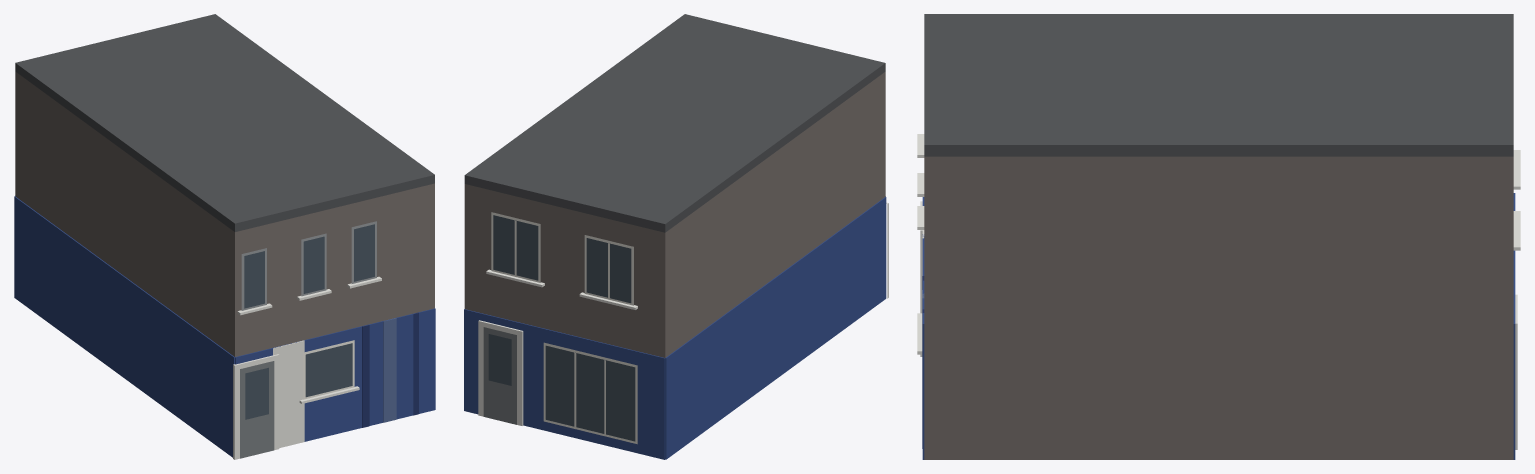
File: th-kz-row__blue__2__flat__long__solid.glb
The picture shows the model from 3 angles, left to right: view 1: azimuth 30°, elevation 25°; view 2: azimuth 150°, elevation 25°; view 3: azimuth 270°, elevation 25°; orthographic projection. The views are drawn at different scales.
Parts seen in each view (by area): view 1: th-kz-row__blue__2__flat__long__solid; view 2: th-kz-row__blue__2__flat__long__solid; view 3: th-kz-row__blue__2__flat__long__solid.
Part boxes in pixels (left/top/right/bottom): th-kz-row__blue__2__flat__long__solid: left=14, top=14, right=435, bottom=459; th-kz-row__blue__2__flat__long__solid: left=464, top=14, right=888, bottom=459; th-kz-row__blue__2__flat__long__solid: left=917, top=14, right=1520, bottom=459.
Size of the model in its own units: 5.43 by 6.03 by 10.46.
